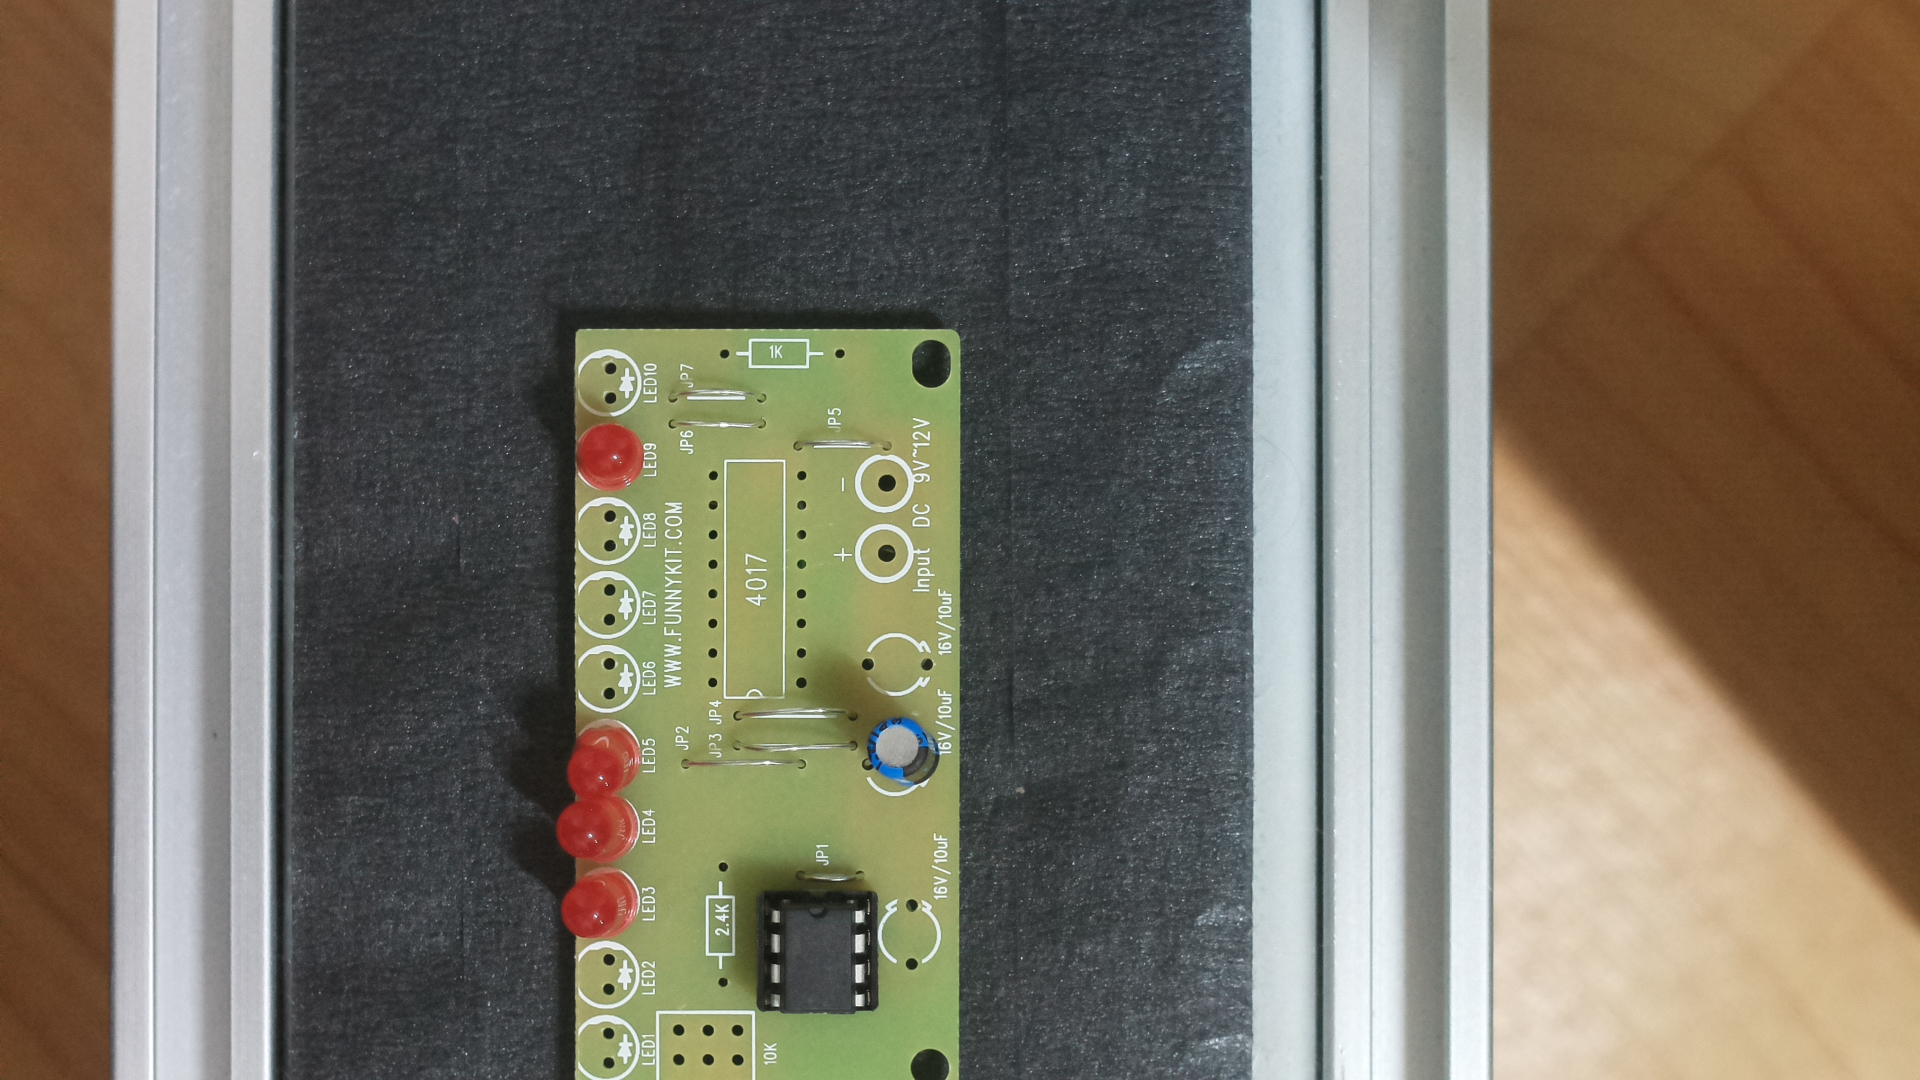B_Missing_part: (556, 307, 975, 1080)
